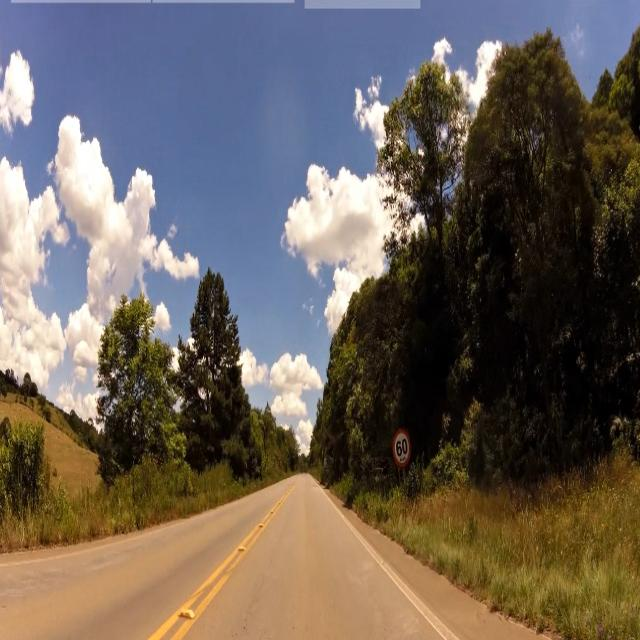R-19: (393, 428, 412, 470)
